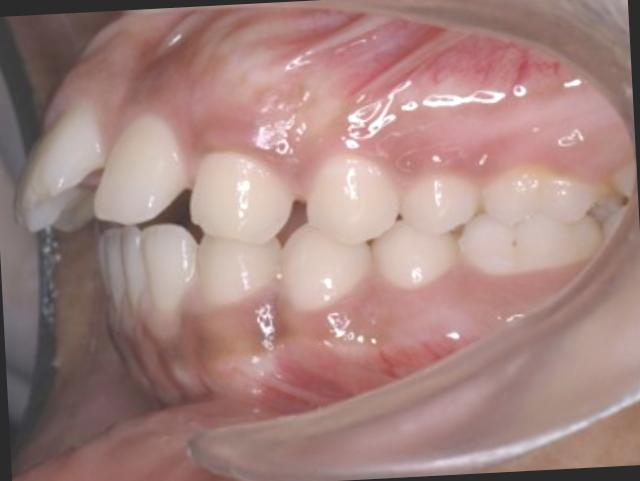canine class II 1/2: (184, 127, 376, 319)
molar class I: (456, 151, 608, 287)
